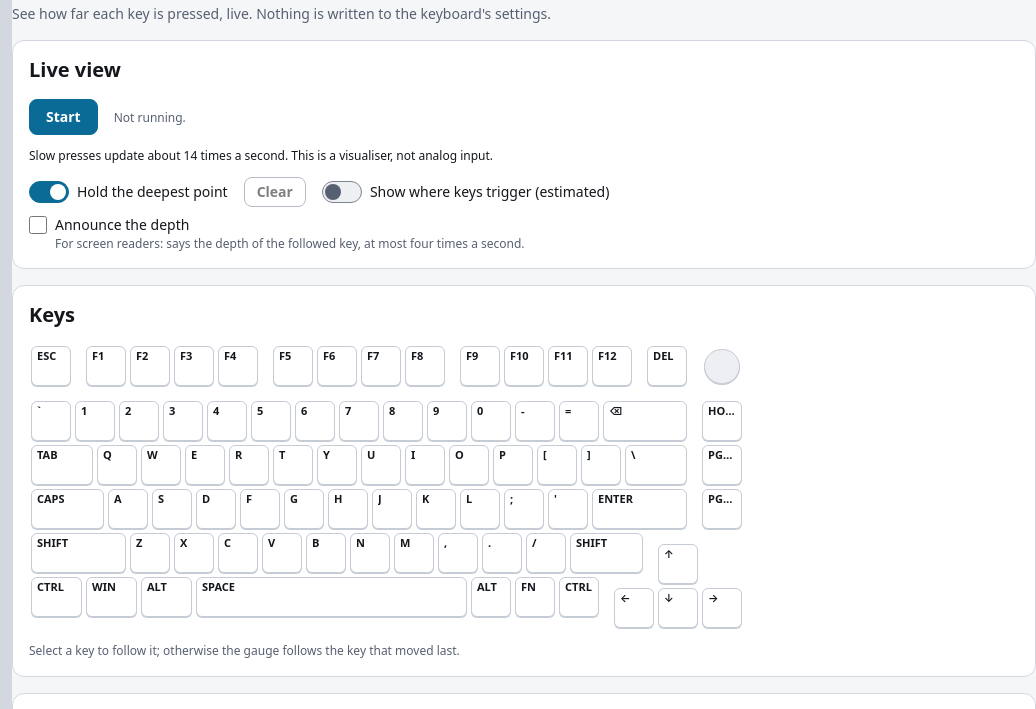
the live view › fills the caps from the top with the depth, follows the key that moved last and says writes are held
Click the button "Start" at (63, 117), box x1=29 y1=99 x2=98 y2=135
(page scrolled)
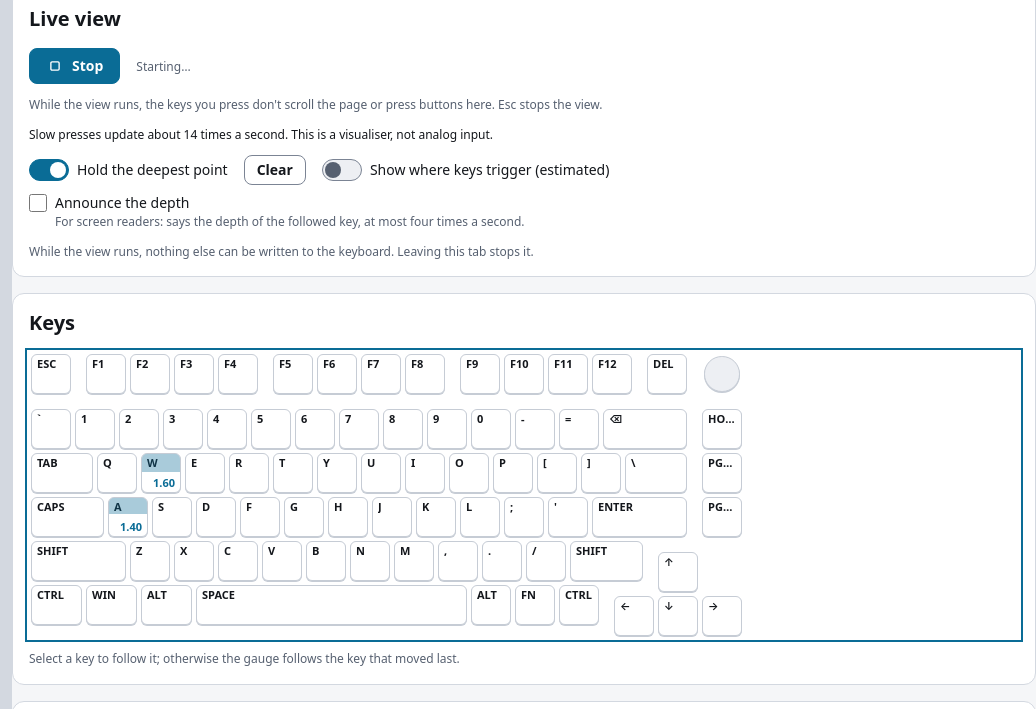
Now the button "Stop" is shown, box x1=29 y1=48 x2=120 y2=84
Now the text "While the view runs, nothing else can be written to the keyboard. Leaving this tab stops it." is shown, box x1=29 y1=243 x2=534 y2=260
Now the number of rows is 3, box x1=30 y1=374 x2=180 y2=396; x1=30 y1=398 x2=180 y2=420; x1=30 y1=422 x2=180 y2=444
